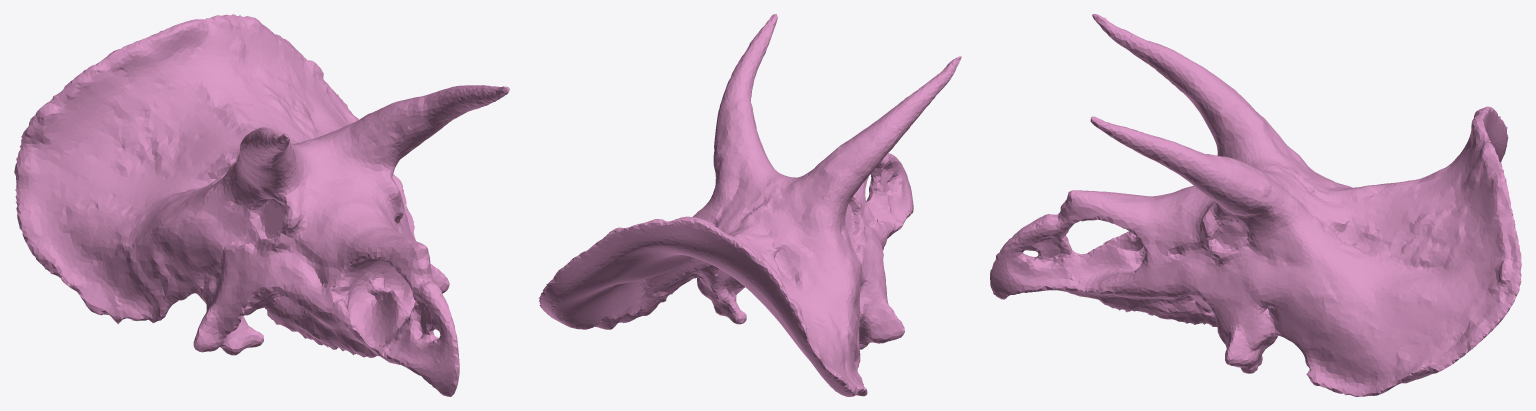
Rendered from asset.glb.
3 views of the same model, side by side, from view 1: azimuth 30°, elevation 25°; view 2: azimuth 150°, elevation 25°; view 3: azimuth 270°, elevation 25° (orthographic). The views are drawn at different scales.
Visible parts, largest first — view 1: Mesh_Mesh_head_geo.001_lambert2SG.001; view 2: Mesh_Mesh_head_geo.001_lambert2SG.001; view 3: Mesh_Mesh_head_geo.001_lambert2SG.001.
Boxes of the visible parts, left/top/right/bottom form: Mesh_Mesh_head_geo.001_lambert2SG.001: left=14, top=14, right=509, bottom=396; Mesh_Mesh_head_geo.001_lambert2SG.001: left=539, top=14, right=961, bottom=396; Mesh_Mesh_head_geo.001_lambert2SG.001: left=990, top=14, right=1521, bottom=396.
Size of the model in its own units: 97.5 by 76.99 by 136.
